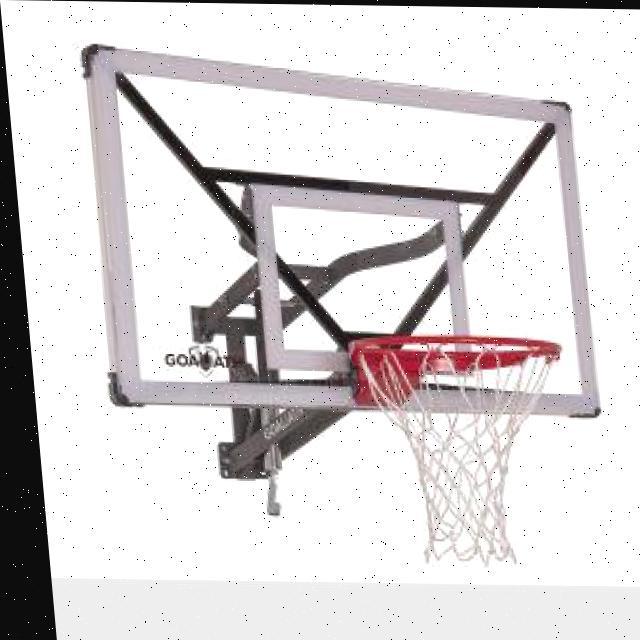hoop: (347, 333, 583, 569)
